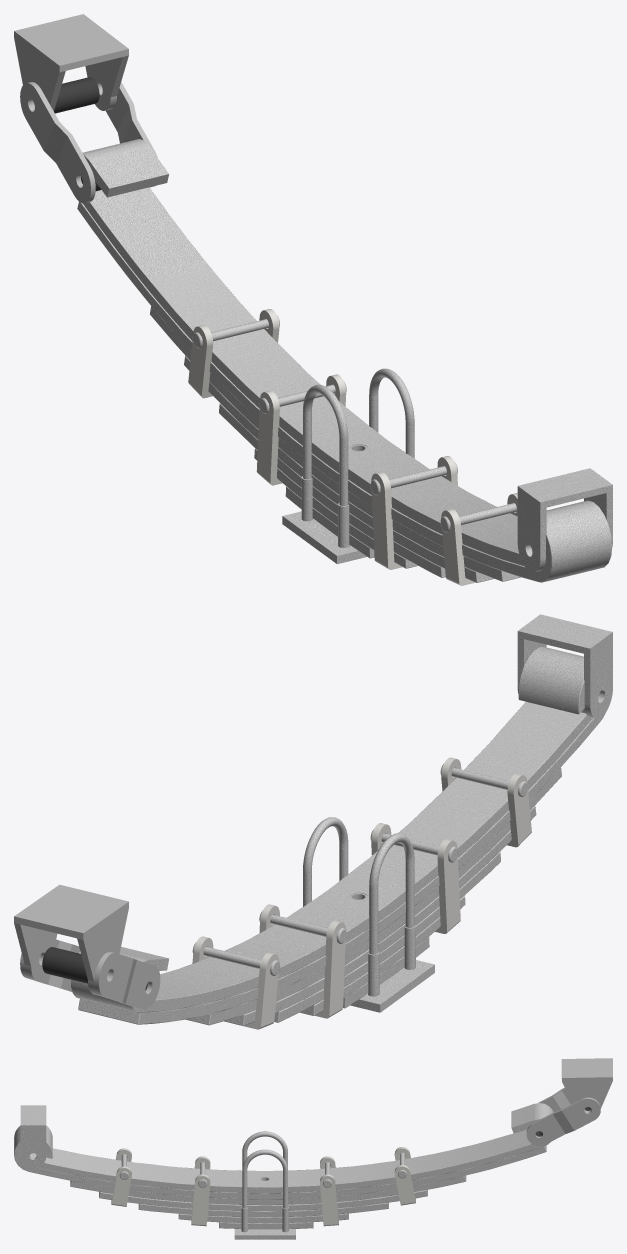
The model's file is custom.gltf.
3 views of the same model, one above another, from view 1: azimuth 30°, elevation 25°; view 2: azimuth 150°, elevation 25°; view 3: azimuth 270°, elevation 25° (orthographic). The views are drawn at different scales.
Visible parts, largest first — view 1: Solid1 (×8), Solid2 (×3); view 2: Solid1 (×8), Solid2 (×3); view 3: Solid1 (×7), Solid2 (×3).
Boxes of the visible parts, <box> form: Solid1 (×8): <box>14,14,612,585</box>; Solid2 (×3): <box>20,82,414,564</box>; Solid1 (×8): <box>14,614,612,1029</box>; Solid2 (×3): <box>20,817,434,1012</box>; Solid1 (×7): <box>14,1058,612,1229</box>; Solid2 (×3): <box>234,1088,600,1239</box>.
Size of the model in its own units: 0.124 by 0.3427 by 1.17.
Materials: 5 (2 with a texture image).
